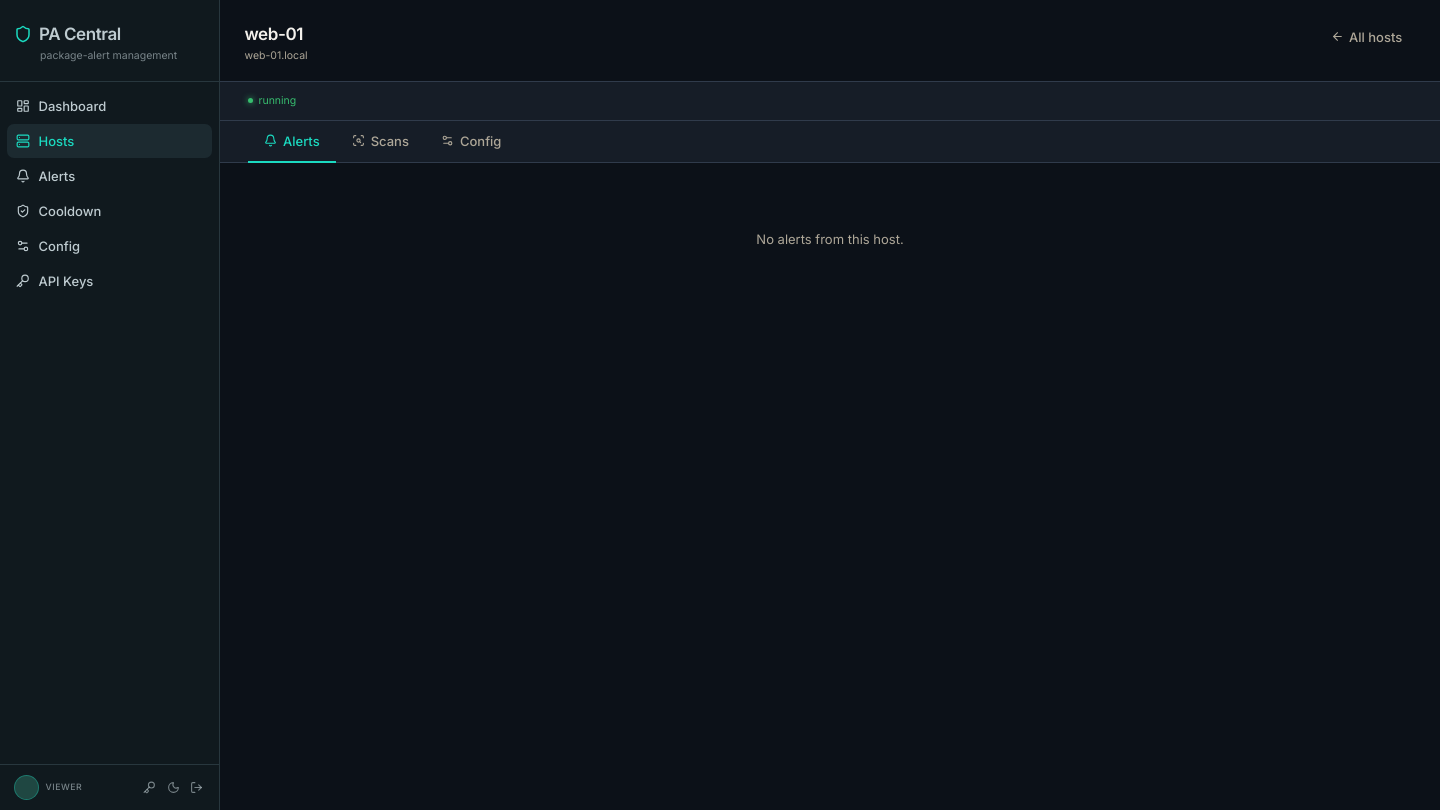
Scenario: HostDetail scan row — risks › shows a "risks unavailable" marker, not silence, when risks is null
Click the tab "Scans".
click(380, 142)  # box 336,121 -> 425,163
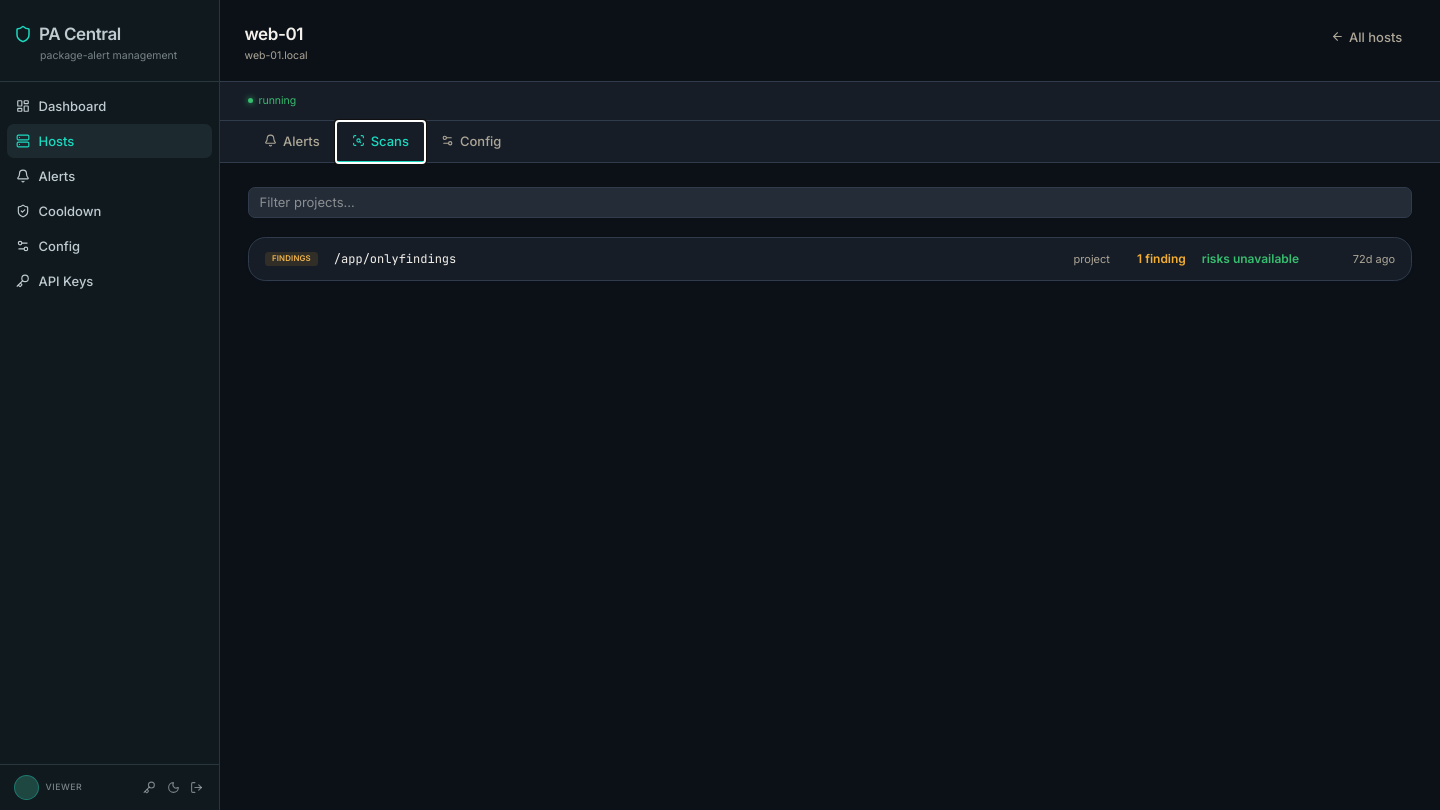
Now the text "/app/onlyfindings" is shown, box 334,251 -> 456,267
Now the text "1 finding" is shown, box 1137,251 -> 1186,266
Now the text "risks unavailable" is shown, box 1202,250 -> 1299,268
